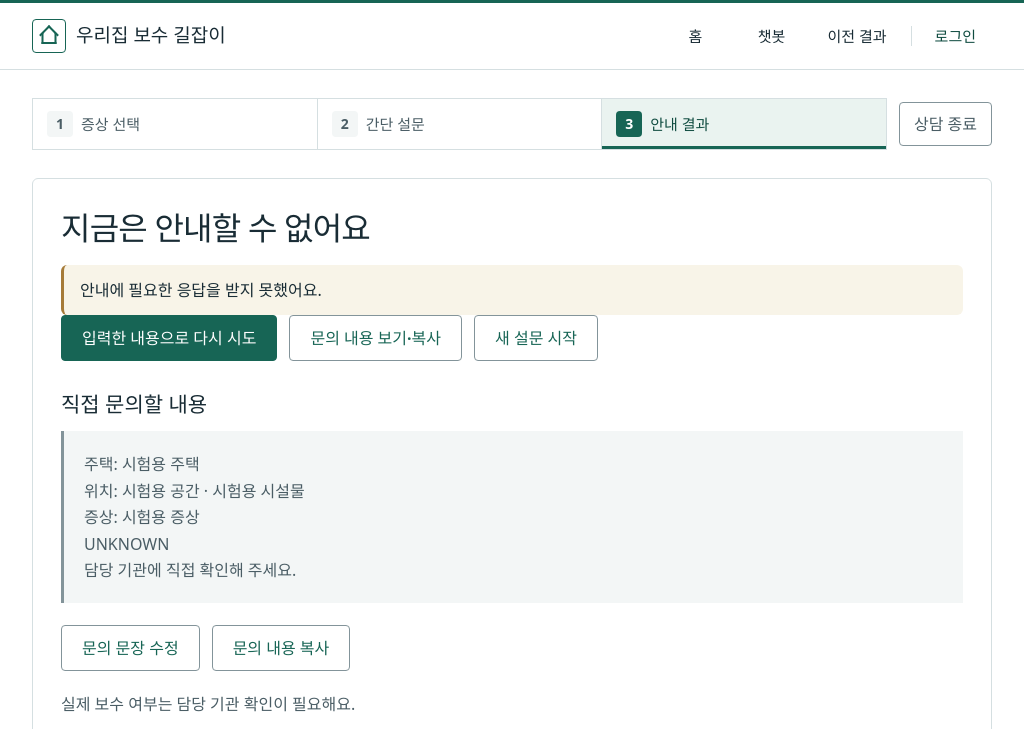
Test: retries an unavailable result with the saved revision and recovers on the same screen (LOST)
Expected: the link with id "contact-heading" reads "문의 내용 보기·복사", 289,315 -> 462,361
Expected: the heading with id "contact-heading" reads "직접 문의할 내용", 61,390 -> 207,418
Click the button "입력한 내용으로 다시 시도". click: (169, 338)
box: 61,315 -> 277,361
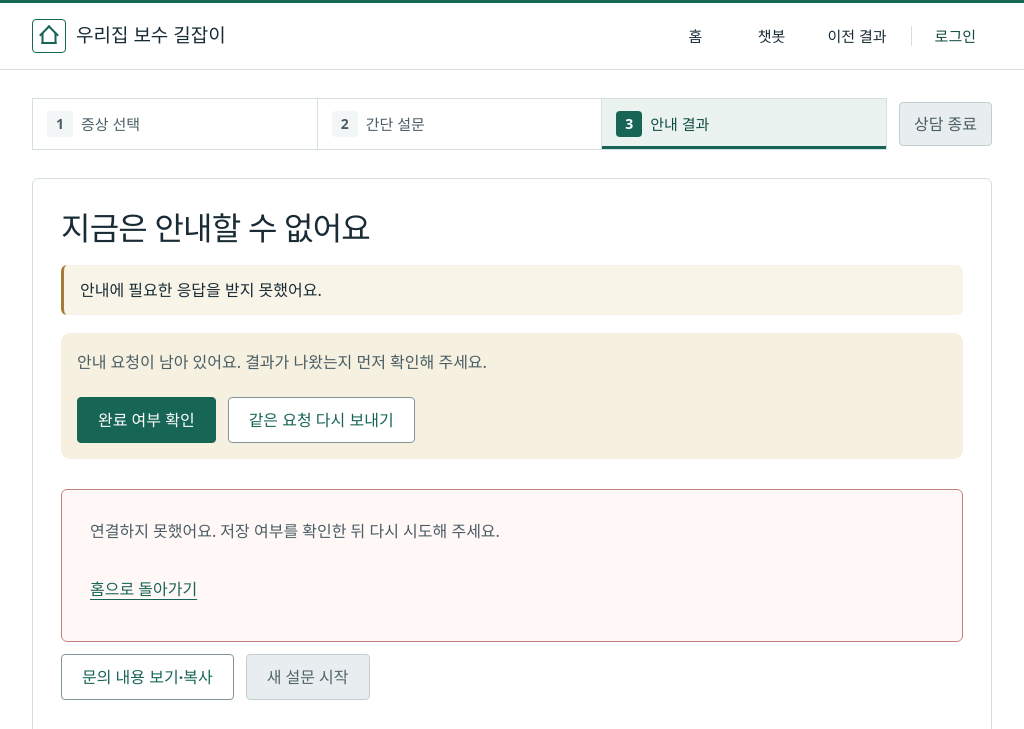
Click the button "완료 여부 확인". click: (146, 420)
box: 77,397 -> 216,443
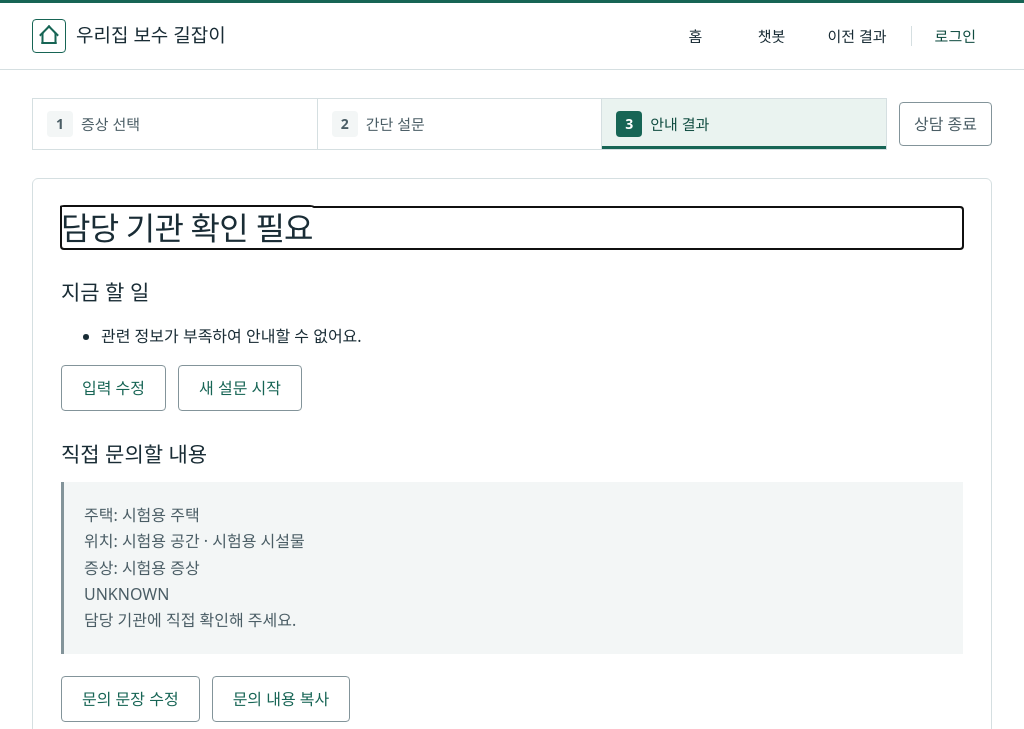
Expected: the text "지금 할 일" is shown, 61,278 -> 149,306
